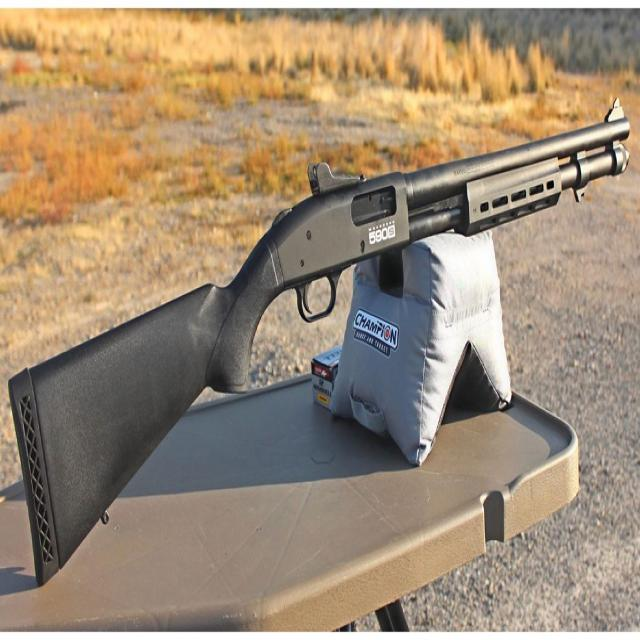ShotGun: (6, 102, 632, 588)
